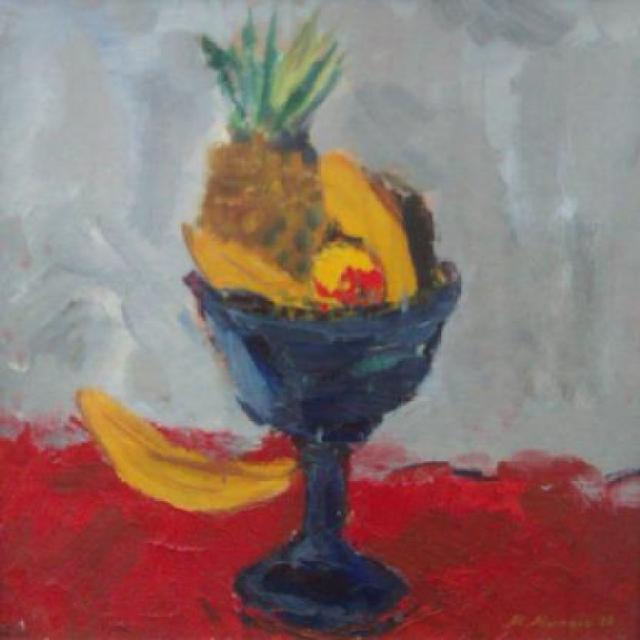Pineapple: (198, 6, 357, 285)
